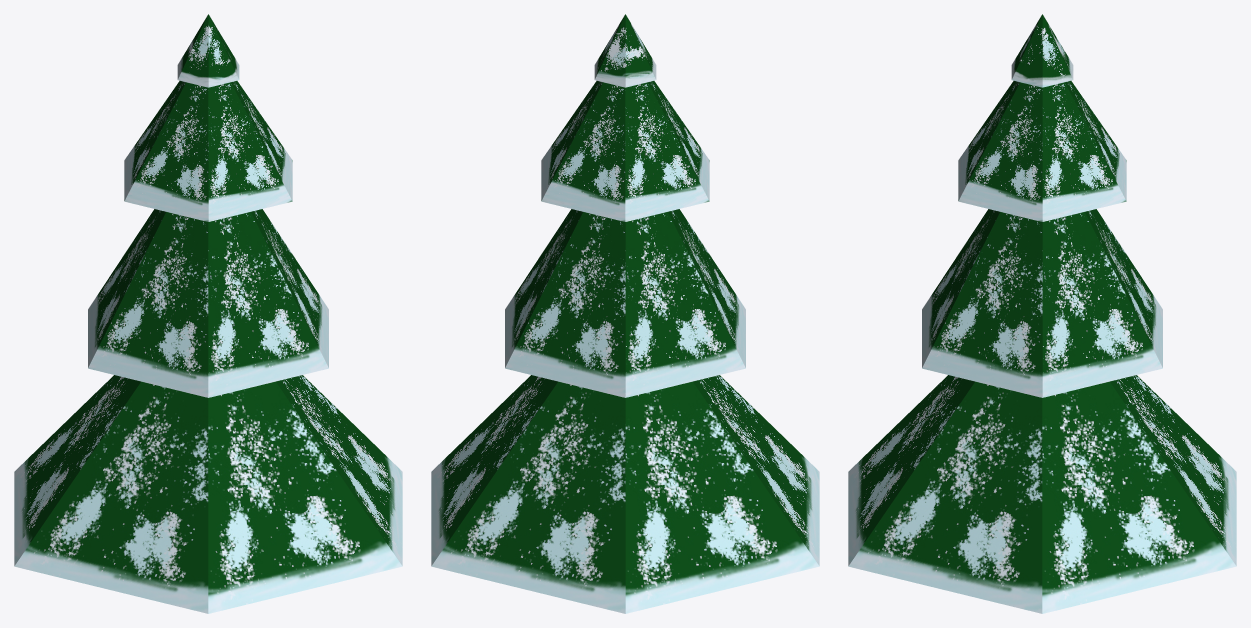
The model's file is pine.fbx.
3 views of the same model, side by side, from view 1: azimuth 30°, elevation 25°; view 2: azimuth 150°, elevation 25°; view 3: azimuth 270°, elevation 25° (orthographic).
Parts seen in each view (by area): view 1: pCone5; view 2: pCone5; view 3: pCone5.
Boxes of the visible parts, box(x1,y1,x2,y2) form: pCone5: box(14, 14, 402, 613); pCone5: box(431, 14, 819, 613); pCone5: box(848, 14, 1236, 613).
Size of the model in its own units: 137 by 200 by 119.
